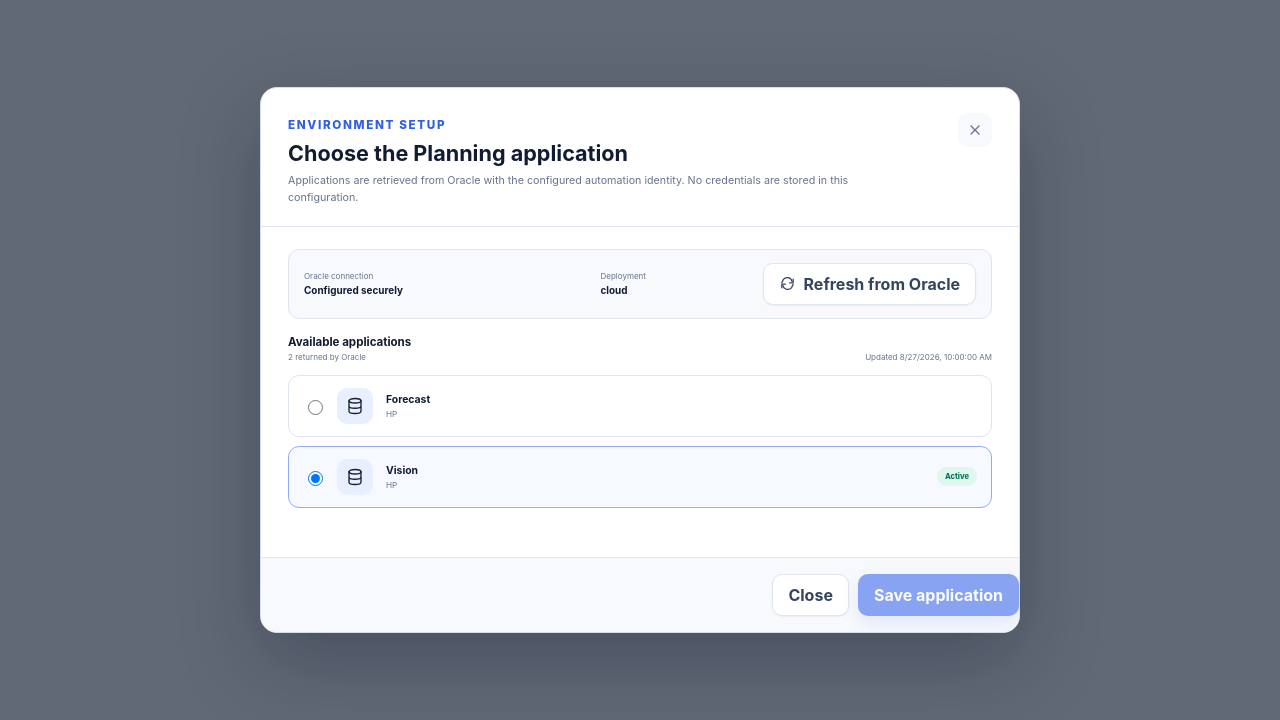
EnvironmentSetupDialog › shows live applications and explains a controlled restart
Expected: the text "Configured securely" is shown, [304,284,403,296]
Click the radio button labelled "Forecast HP" at x=316, y=407, box [308,400,323,415]
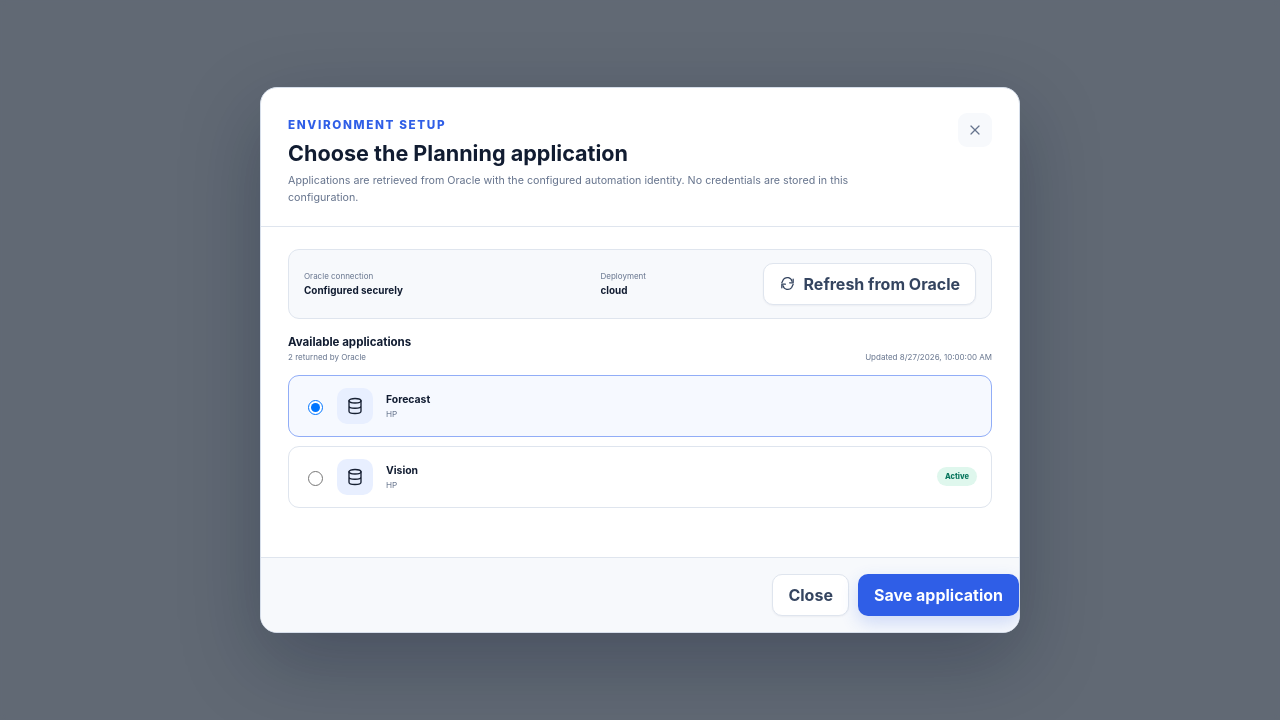
Click the button "Save application" at x=938, y=595, box [858,574,1019,616]
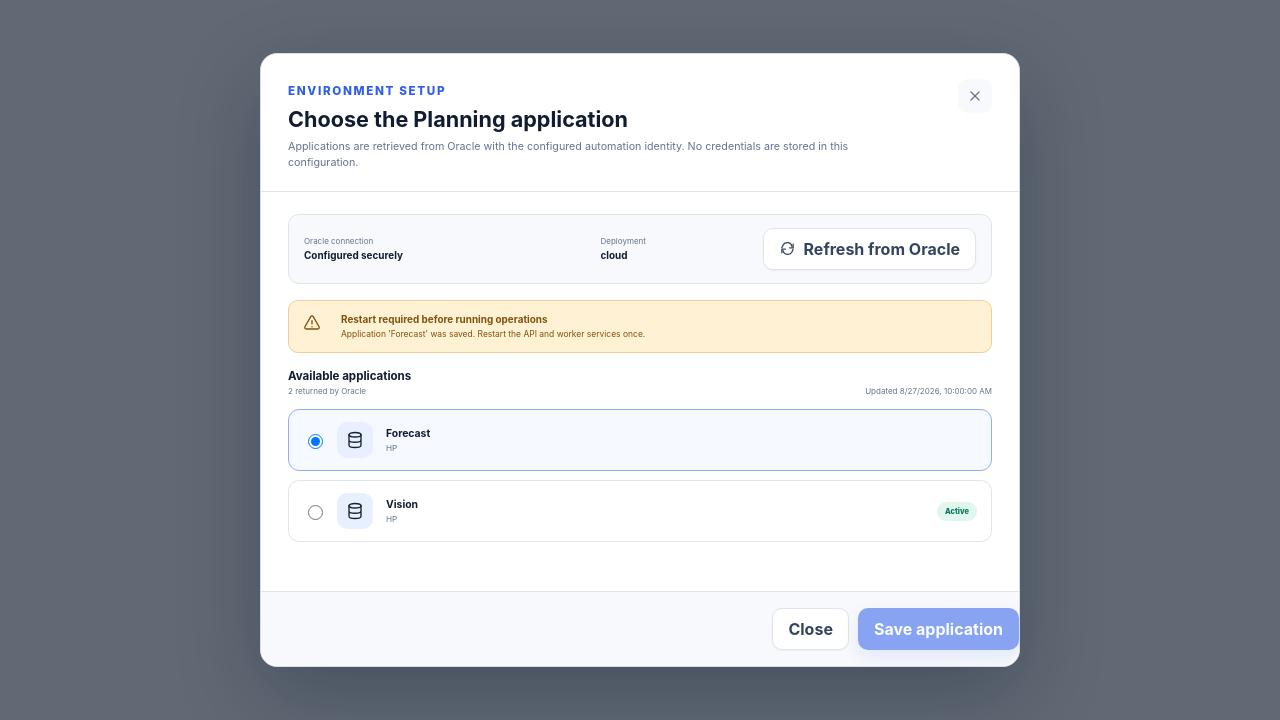
Result: the text "Restart required before running operations" is shown at [341,313,548,325]
Result: the text "Restart the API and worker services once" is shown at [341,329,645,339]
